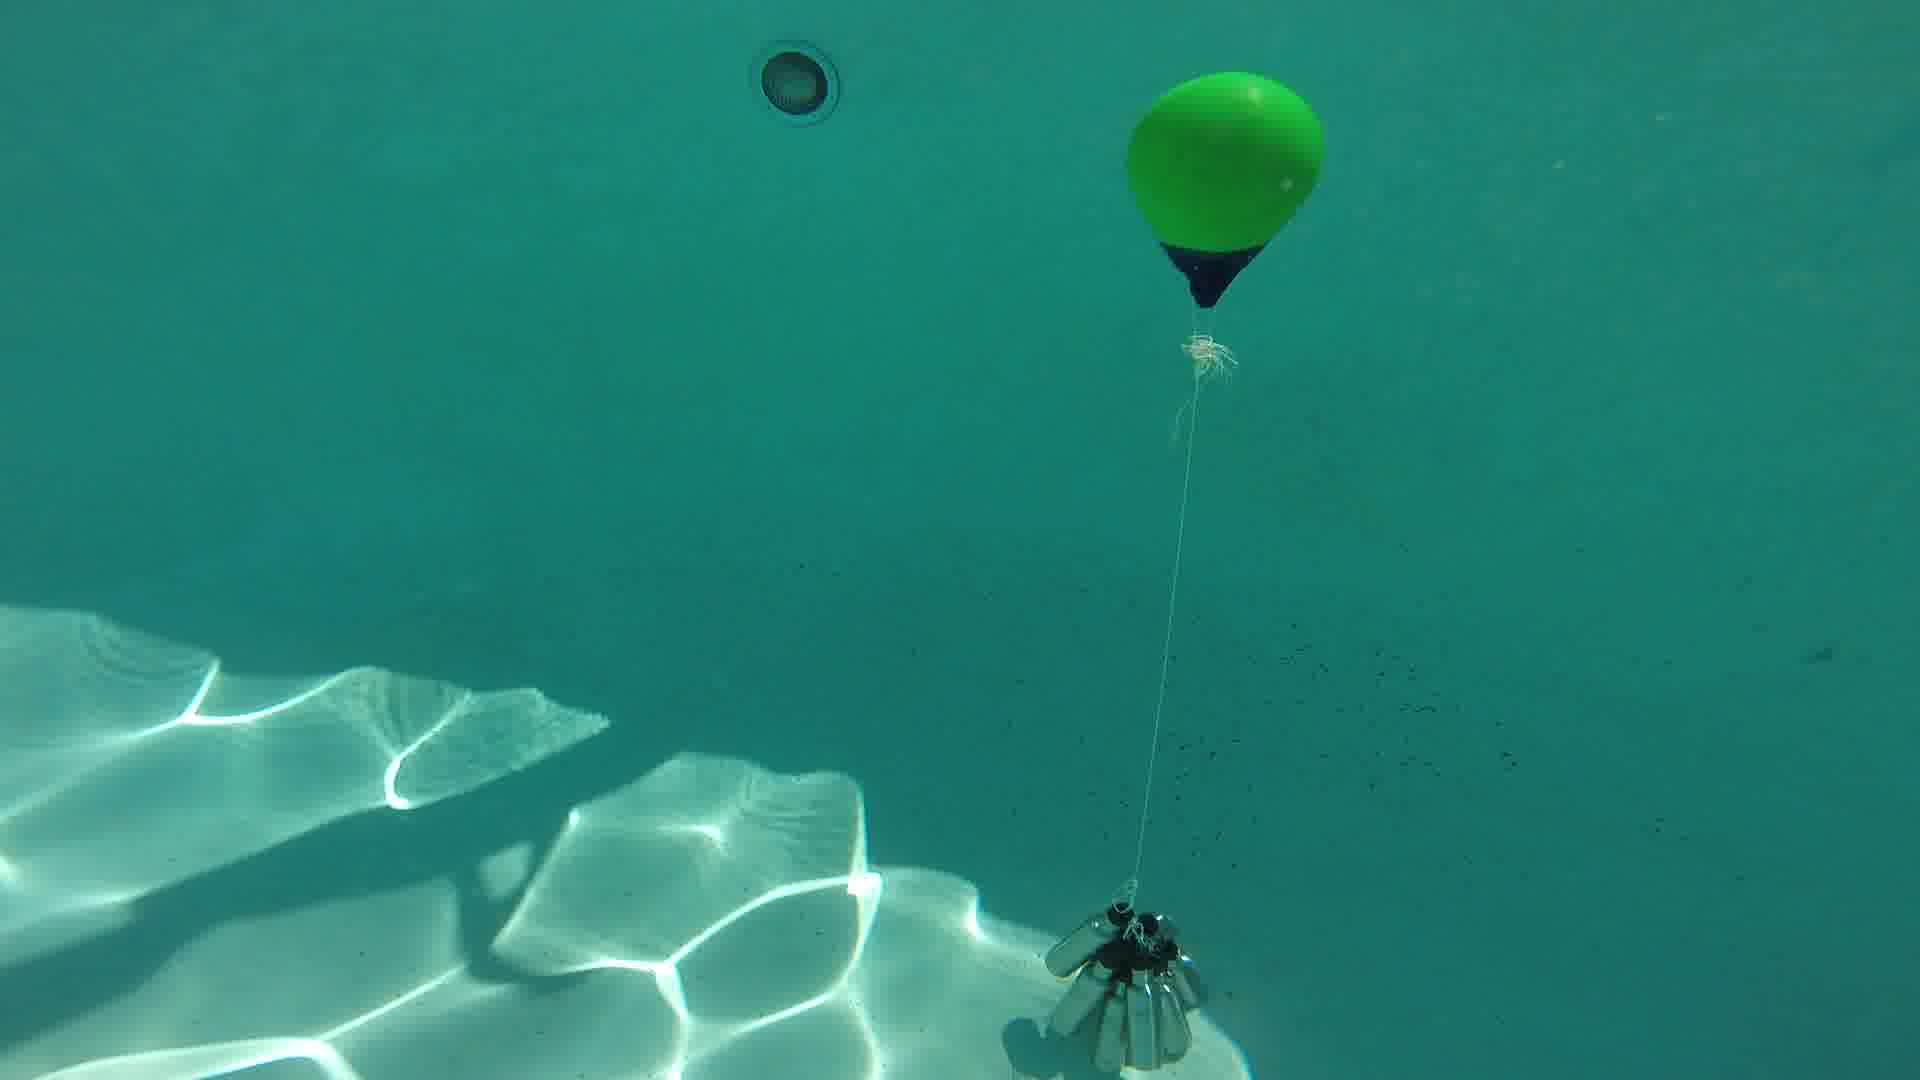yellow_buoy: (1129, 69, 1325, 314)
